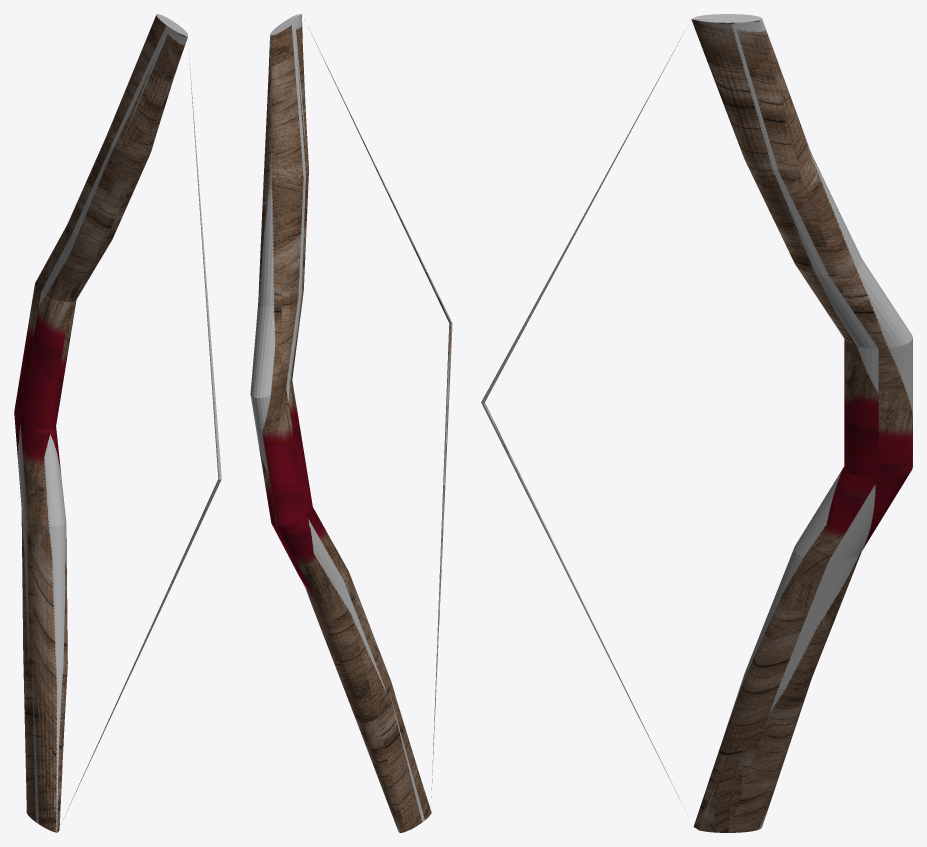
The model's file is Protagonista15.obj.
3 views of the same model, side by side, from view 1: azimuth 30°, elevation 25°; view 2: azimuth 150°, elevation 25°; view 3: azimuth 270°, elevation 25° (orthographic). The views are drawn at different scales.
Visible parts, largest first — view 1: Cilindro; view 2: Cilindro; view 3: Cilindro.
Boxes of the visible parts, left/top/right/bottom form: Cilindro: left=14, top=14, right=221, bottom=832; Cilindro: left=250, top=14, right=452, bottom=832; Cilindro: left=481, top=14, right=912, bottom=832.
Size of the model in its own units: 0.1877 by 0.9705 by 0.4295.
Materials: 1 (1 with a texture image).
